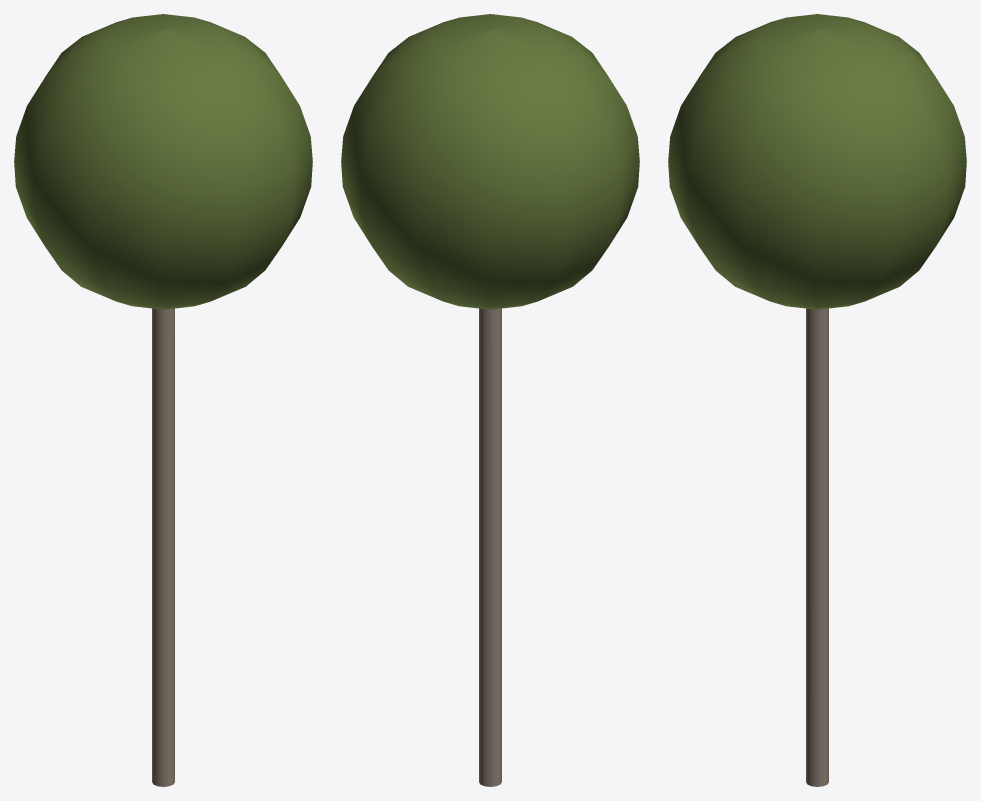
File: California_Palm_Analytical_0.obj
3 renders of one model, left to right at view 1: azimuth 30°, elevation 25°; view 2: azimuth 150°, elevation 25°; view 3: azimuth 270°, elevation 25°, orthographic.
Parts seen in each view (by area): view 1: AnalyticalCrown, AnalyticalTrunk; view 2: AnalyticalCrown, AnalyticalTrunk; view 3: AnalyticalCrown, AnalyticalTrunk.
Part boxes in pixels (<box>): AnalyticalCrown: <box>14,14,312,309</box>; AnalyticalTrunk: <box>152,308,174,786</box>; AnalyticalCrown: <box>341,14,639,309</box>; AnalyticalTrunk: <box>479,308,501,786</box>; AnalyticalCrown: <box>668,14,966,309</box>; AnalyticalTrunk: <box>806,308,828,786</box>.
Bounding box in the file's own units: 6.48 × 18 × 6.48.
